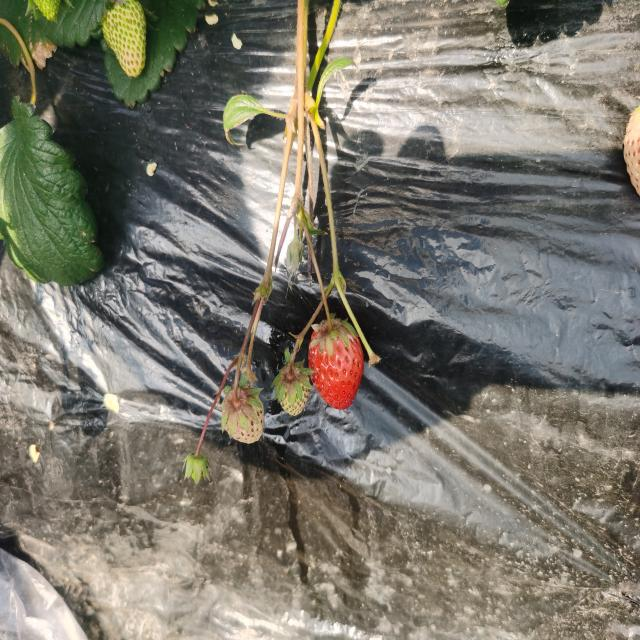stem: (321, 287, 334, 334)
strawberry: (308, 319, 364, 410)
